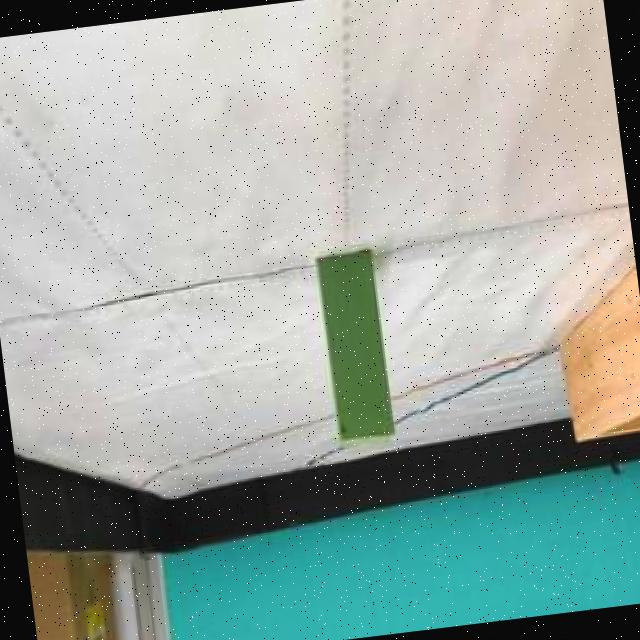greenbox: (312, 245, 403, 448)
